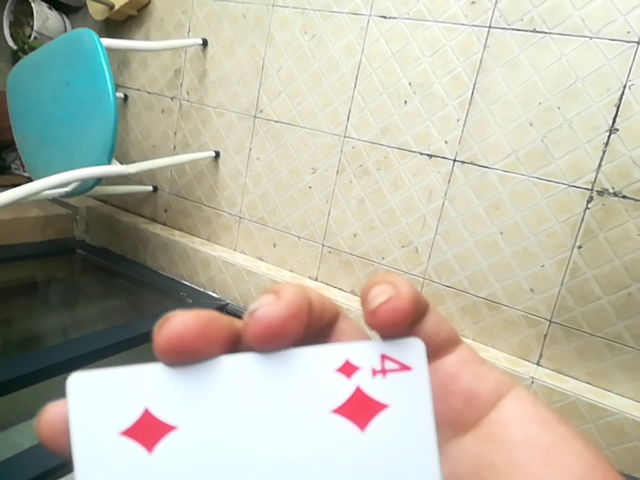fk 4: (55, 333, 446, 478)
